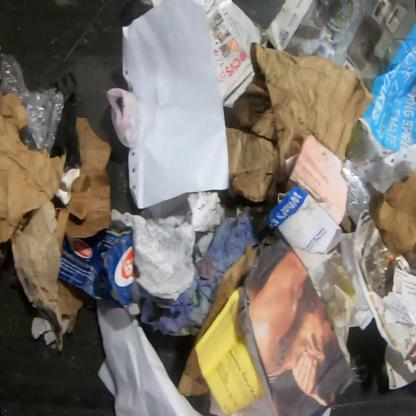cardboard: (178, 244, 260, 398), (57, 117, 112, 259), (58, 229, 136, 311), (374, 170, 415, 276)
rigid_plastic: (342, 160, 370, 226)
soft_plastic: (0, 50, 65, 158), (48, 70, 80, 172), (106, 87, 146, 149)
